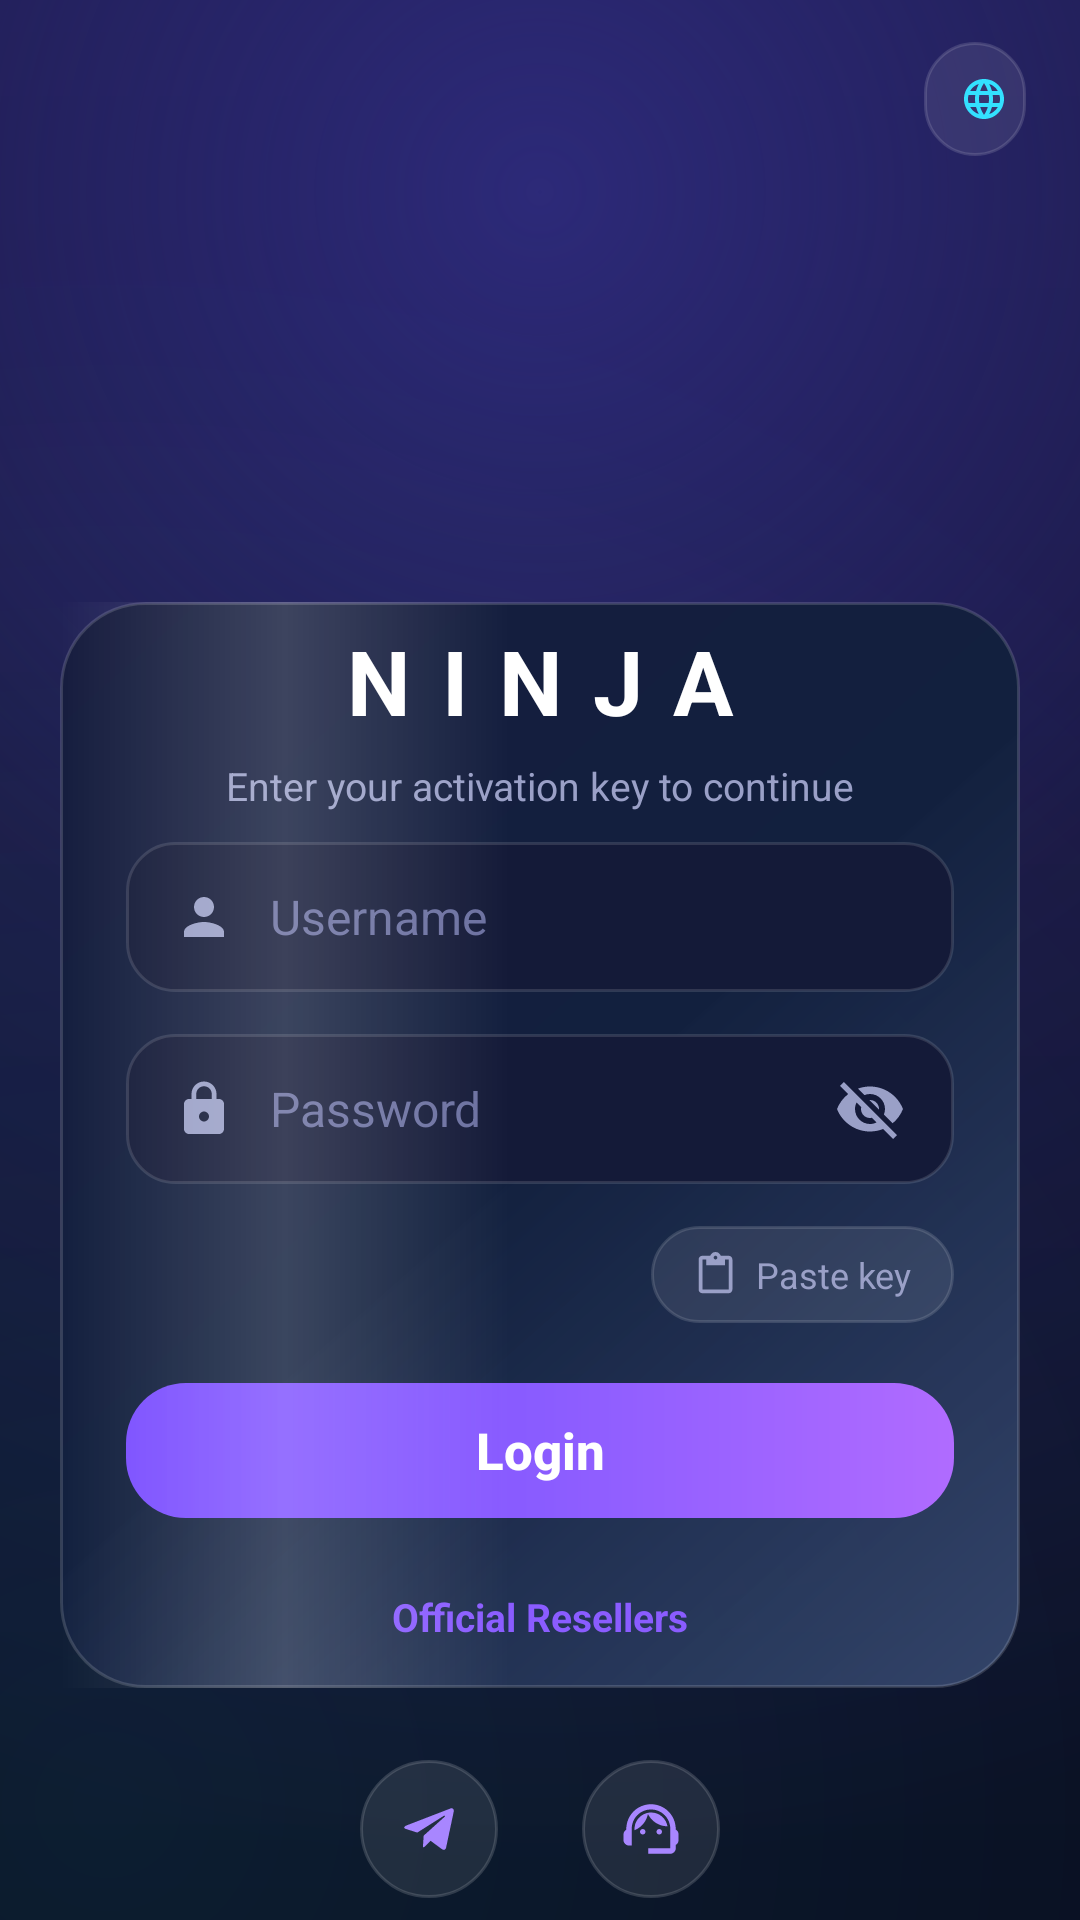

Icon bounding boxes for this 1080x1920 phone screenshot, format box(x1, y1, x2, y2):
language: box(964, 79, 1004, 119)
lock: box(184, 1081, 224, 1134)
visibility off: box(837, 1082, 903, 1139)
